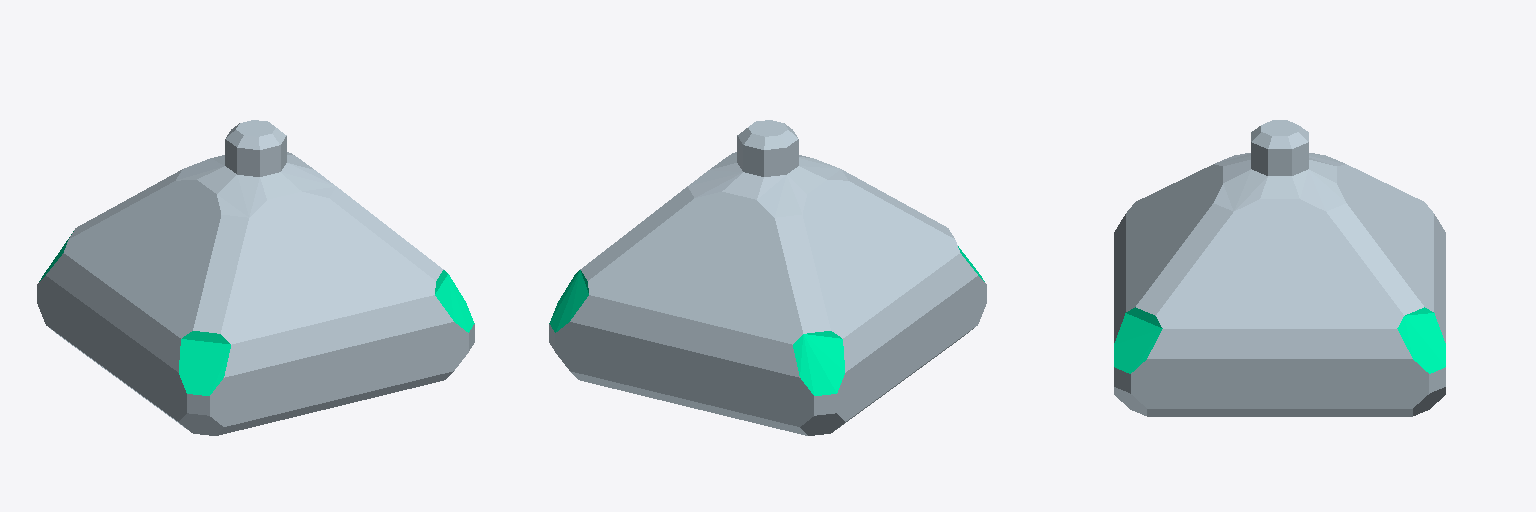
3 views of the same model, side by side, from view 1: azimuth 30°, elevation 25°; view 2: azimuth 150°, elevation 25°; view 3: azimuth 270°, elevation 25° (orthographic).
Visible parts, largest first — view 1: Cube.001_Cube.003; view 2: Cube.001_Cube.003; view 3: Cube.001_Cube.003.
Part boxes in pixels (x1,y1,x2,y2): Cube.001_Cube.003: (37,120,474,435); Cube.001_Cube.003: (549,120,986,435); Cube.001_Cube.003: (1114,120,1445,416).
Size of the model in its own units: 1 by 0.8477 by 1.
Materials: 2 (1 with a texture image).